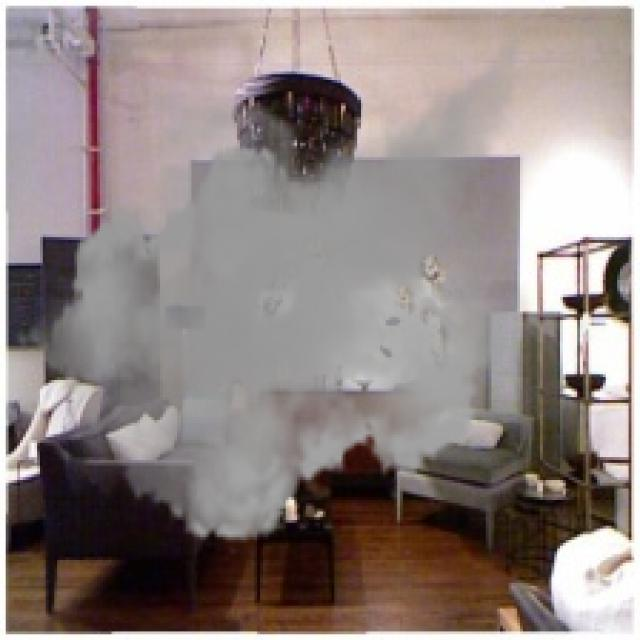smoke: (14, 3, 537, 557)
